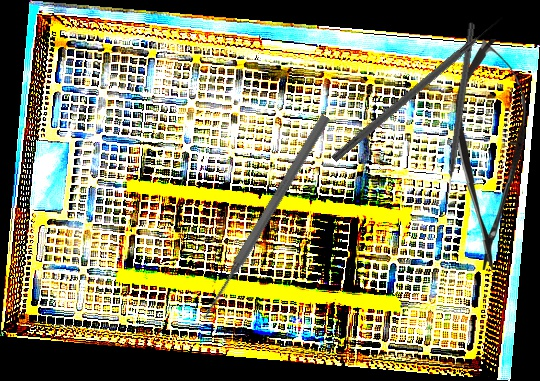Hook Surgical: (330, 13, 507, 164), (441, 21, 477, 208)
Micro Scissor: (450, 38, 531, 271)
Pusher: (197, 112, 333, 323)
